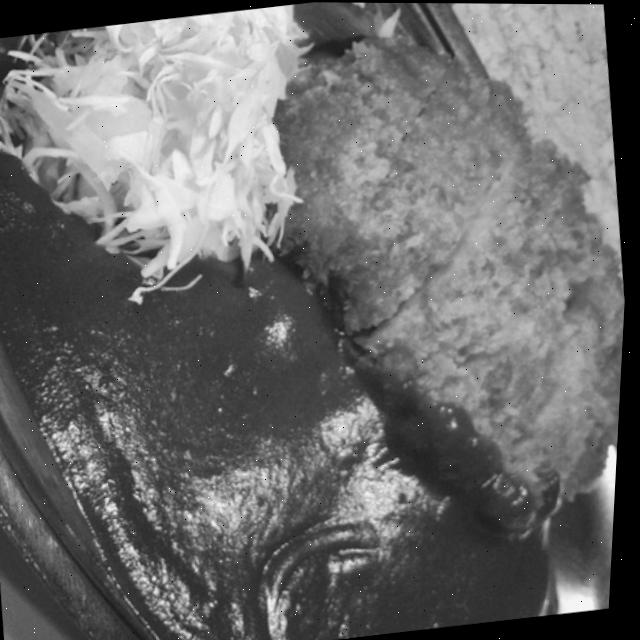鸡肉料理 含炸鸡: (239, 2, 640, 585)
